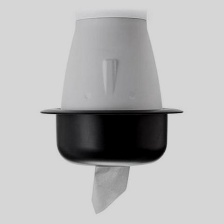plastic_box: (34, 11, 188, 173)
tissue: (85, 162, 135, 219)
